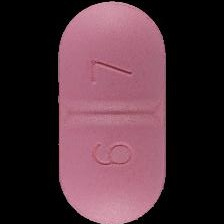12634-874: (0, 0, 224, 224)
